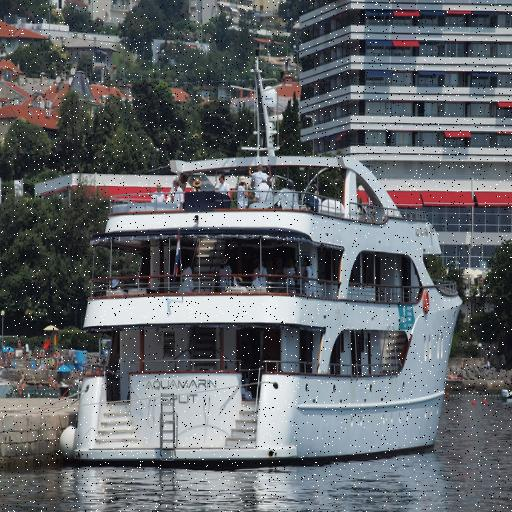cruises: (74, 76, 459, 467)
